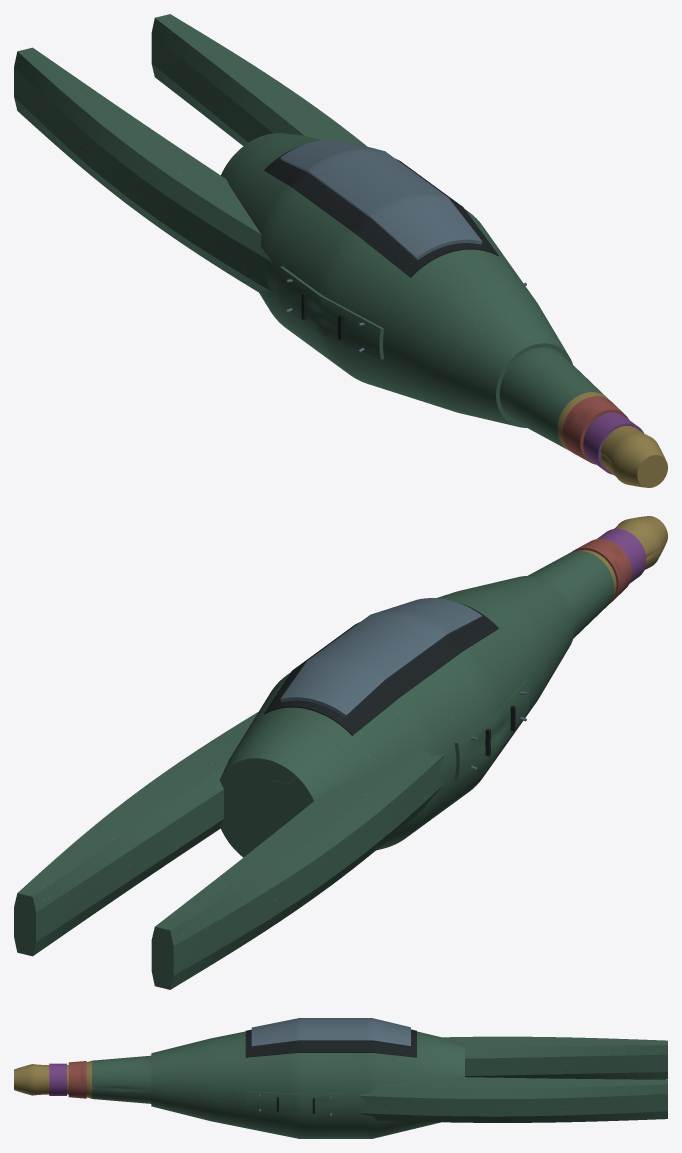
The picture shows the model from 3 angles, top to bottom: view 1: azimuth 30°, elevation 25°; view 2: azimuth 150°, elevation 25°; view 3: azimuth 270°, elevation 25°; orthographic projection. The views are drawn at different scales.
Visible parts, largest first — view 1: Rigellian Detonator green core, Rigellian Detonator rear prong 0, Rigellian Detonator rear prong 1, Rigellian Detonator blue grey centre, Rigellian Detonator forward neck, Rigellian Detonator centre recess surround, Rigellian Detonator service cover 1, Rigellian Detonator gold forward fitting, Rigellian Detonator red forward band, Rigellian Detonator purple forward collar; view 2: Rigellian Detonator green core, Rigellian Detonator rear prong 0, Rigellian Detonator rear prong 1, Rigellian Detonator blue grey centre, Rigellian Detonator centre recess surround, Rigellian Detonator forward neck, Rigellian Detonator service cover 1, Rigellian Detonator gold forward fitting, Rigellian Detonator red forward band, Rigellian Detonator purple forward collar; view 3: Rigellian Detonator green core, Rigellian Detonator rear prong 1, Rigellian Detonator rear prong 0, Rigellian Detonator blue grey centre, Rigellian Detonator forward neck, Rigellian Detonator service cover 0, Rigellian Detonator centre recess surround, Rigellian Detonator gold forward fitting, Rigellian Detonator red forward band, Rigellian Detonator purple forward collar.
Boxes of the visible parts, x1=… form: Rigellian Detonator green core: x1=221, y1=133, x2=572, y2=427; Rigellian Detonator rear prong 0: x1=14, y1=47, x2=272, y2=293; Rigellian Detonator rear prong 1: x1=151, y1=14, x2=366, y2=146; Rigellian Detonator blue grey centre: x1=280, y1=139, x2=482, y2=259; Rigellian Detonator forward neck: x1=499, y1=347, x2=605, y2=448; Rigellian Detonator centre recess surround: x1=264, y1=146, x2=498, y2=277; Rigellian Detonator service cover 1: x1=278, y1=266, x2=384, y2=359; Rigellian Detonator gold forward fitting: x1=557, y1=392, x2=667, y2=487; Rigellian Detonator red forward band: x1=562, y1=396, x2=628, y2=464; Rigellian Detonator purple forward collar: x1=583, y1=412, x2=643, y2=474; Rigellian Detonator green core: x1=219, y1=576, x2=574, y2=857; Rigellian Detonator rear prong 0: x1=151, y1=749, x2=444, y2=989; Rigellian Detonator rear prong 1: x1=14, y1=712, x2=258, y2=956; Rigellian Detonator blue grey centre: x1=280, y1=598, x2=482, y2=717; Rigellian Detonator centre recess surround: x1=264, y1=602, x2=498, y2=735; Rigellian Detonator forward neck: x1=528, y1=551, x2=614, y2=638; Rigellian Detonator service cover 1: x1=454, y1=679, x2=529, y2=780; Rigellian Detonator gold forward fitting: x1=578, y1=516, x2=667, y2=596; Rigellian Detonator red forward band: x1=571, y1=539, x2=631, y2=603; Rigellian Detonator purple forward collar: x1=597, y1=528, x2=646, y2=583; Rigellian Detonator green core: x1=151, y1=1031, x2=464, y2=1138; Rigellian Detonator rear prong 1: x1=358, y1=1077, x2=667, y2=1122; Rigellian Detonator rear prong 0: x1=442, y1=1036, x2=667, y2=1079; Rigellian Detonator blue grey centre: x1=251, y1=1018, x2=410, y2=1047; Rigellian Detonator forward neck: x1=92, y1=1055, x2=151, y2=1103; Rigellian Detonator service cover 0: x1=245, y1=1091, x2=345, y2=1116; Rigellian Detonator centre recess surround: x1=245, y1=1029, x2=416, y2=1057; Rigellian Detonator gold forward fitting: x1=14, y1=1060, x2=92, y2=1098; Rigellian Detonator red forward band: x1=68, y1=1061, x2=86, y2=1098; Rigellian Detonator purple forward collar: x1=49, y1=1063, x2=66, y2=1095.
Size of the model in its own units: 0.4488 by 0.409 by 2.21.
Materials: 6 (3 with a texture image).
